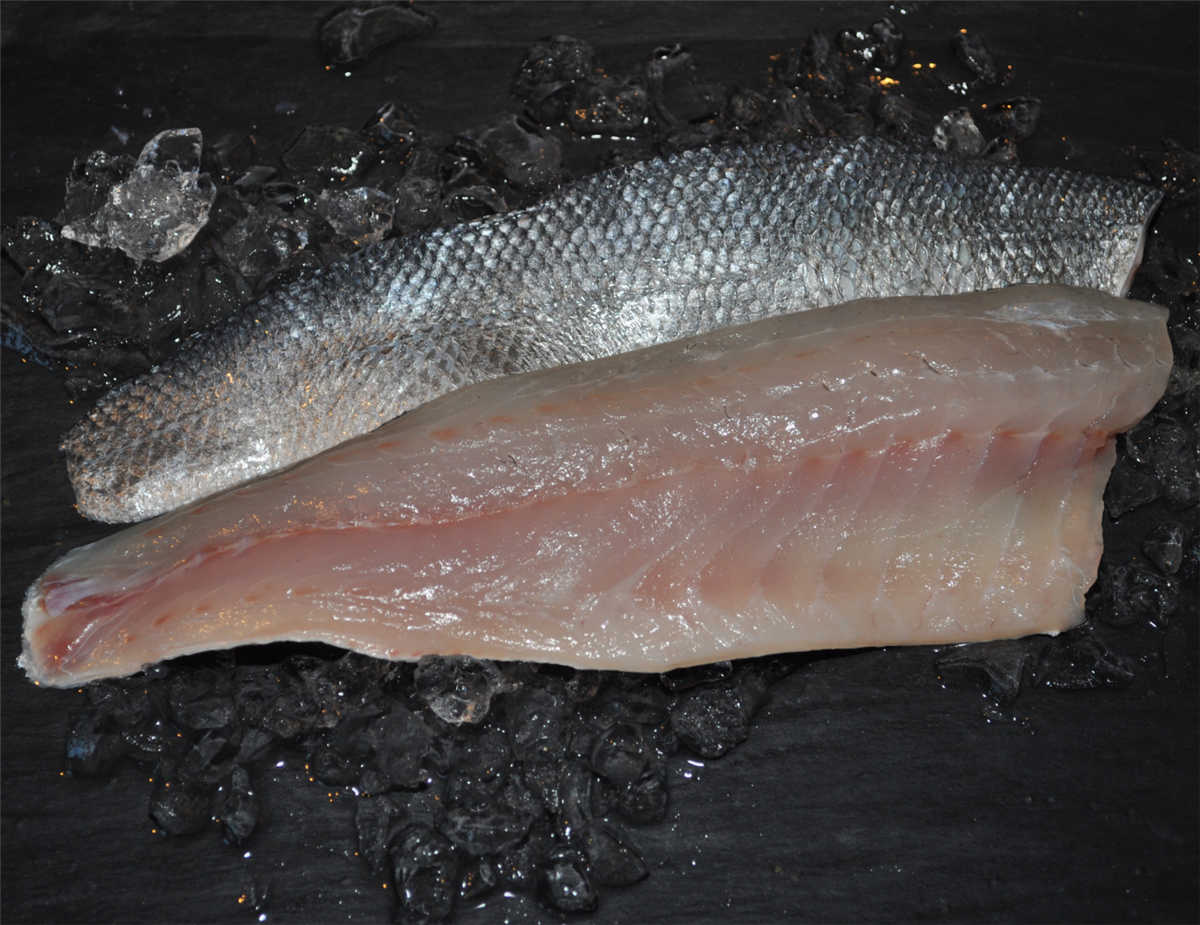bream-fish: (20, 284, 1178, 693)
